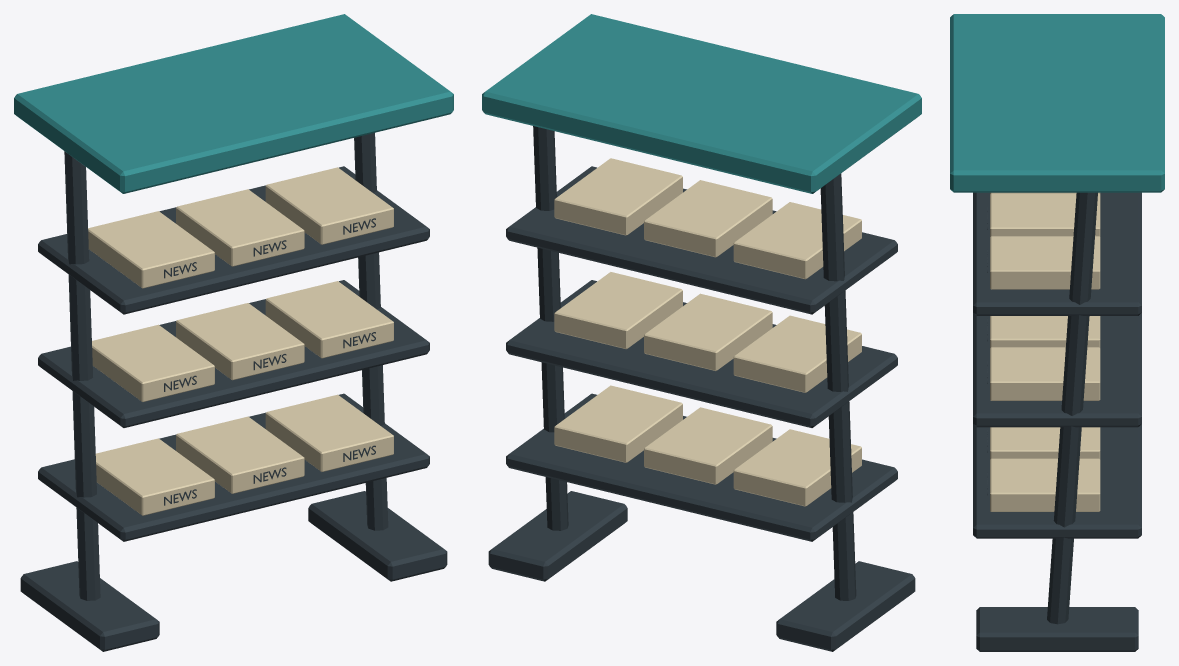
Rendered from Newspaper_Stand.glb.
The picture shows the model from 3 angles, left to right: view 1: azimuth 30°, elevation 25°; view 2: azimuth 150°, elevation 25°; view 3: azimuth 270°, elevation 25°; orthographic projection. The views are drawn at different scales.
Parts seen in each view (by area): view 1: Newspaper_Stand; view 2: Newspaper_Stand; view 3: Newspaper_Stand.
Boxes of the visible parts, x1,y1,x2,y2 form: Newspaper_Stand: (14, 14, 453, 651); Newspaper_Stand: (482, 14, 921, 651); Newspaper_Stand: (950, 14, 1164, 651).
Size of the model in its own units: 1.28 by 1.72 by 0.7.
